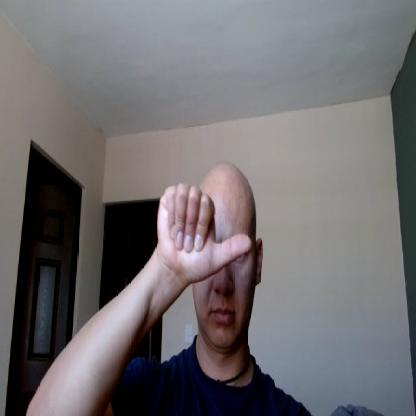A: (157, 182, 252, 284)
